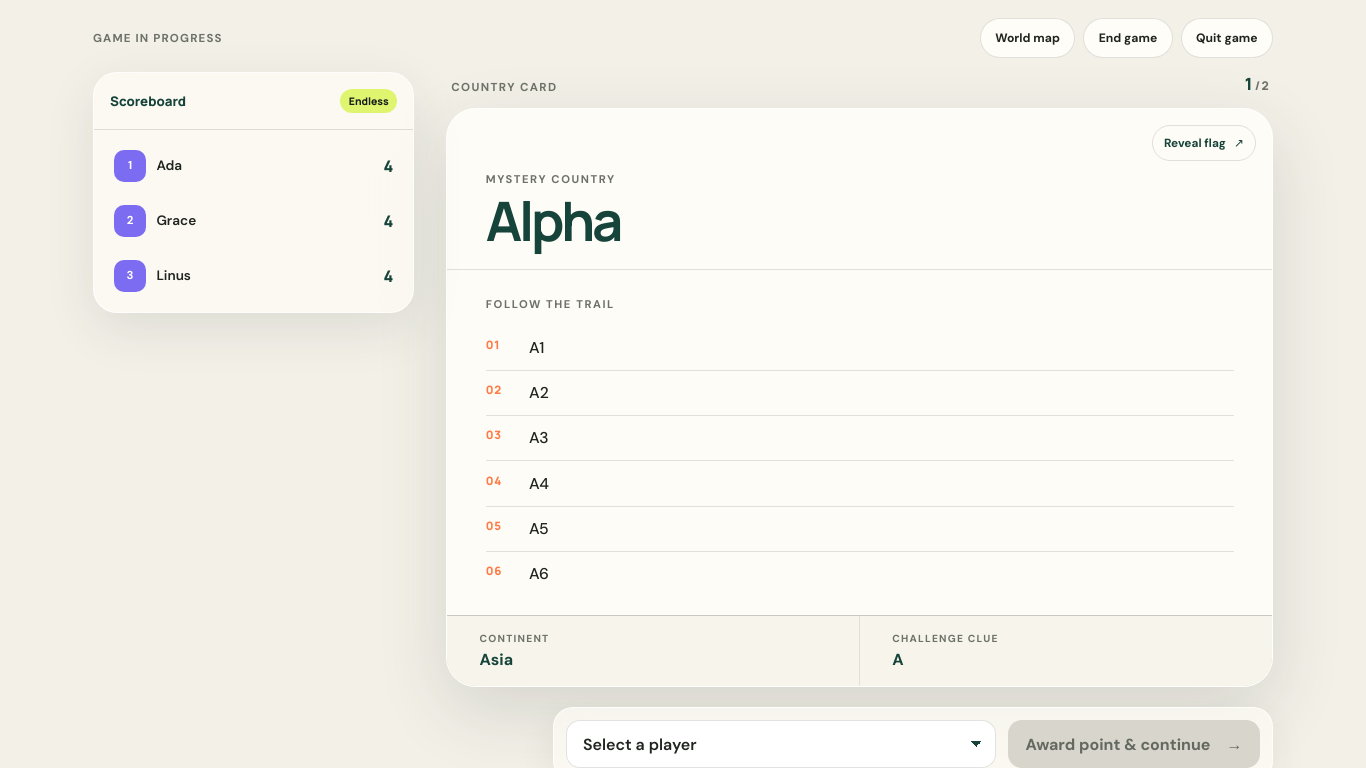
Scenario: lets players end an Endless game and declares tied leaders
Step 1. Click the button "End game" → (1128, 38), box [1083,18,1173,58]
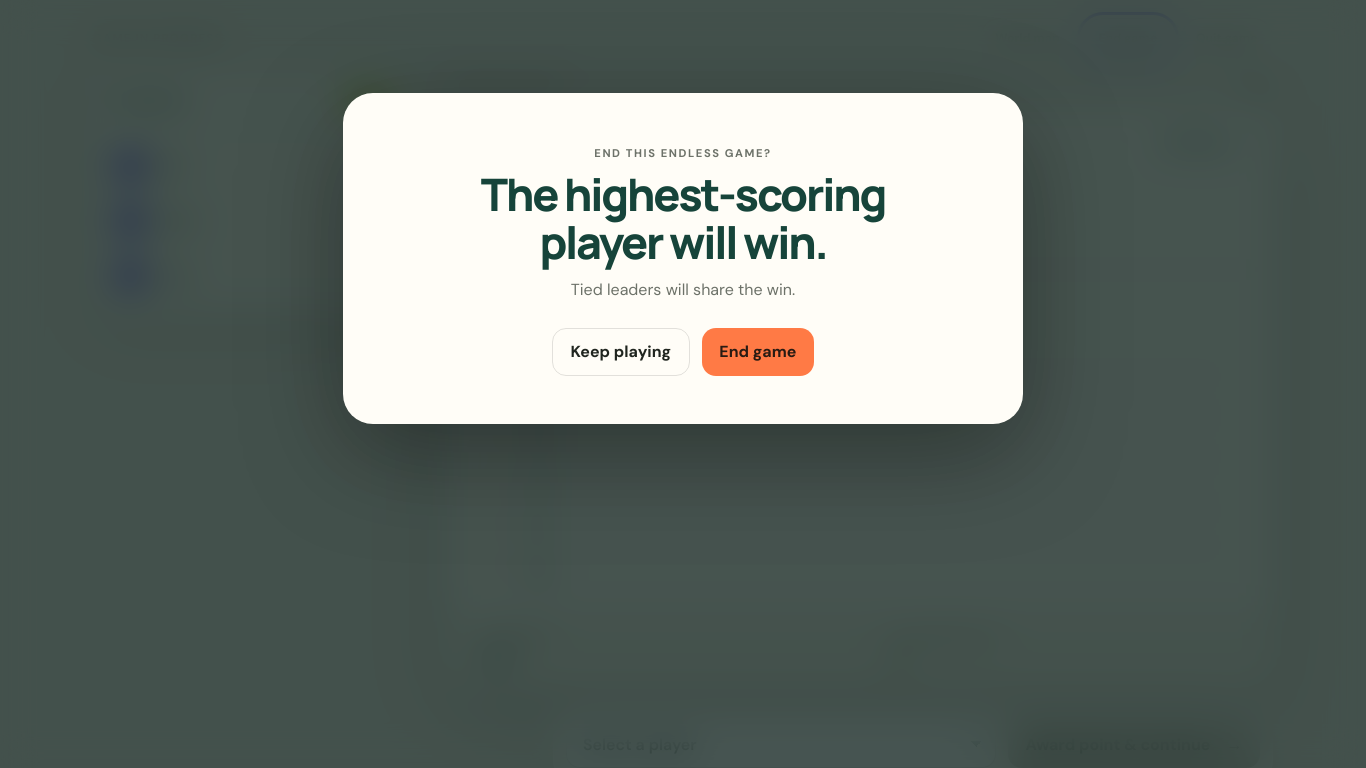
Result: the dialog is shown
Step 2. Click the button "Keep playing" → (621, 352), box [552,328,690,376]
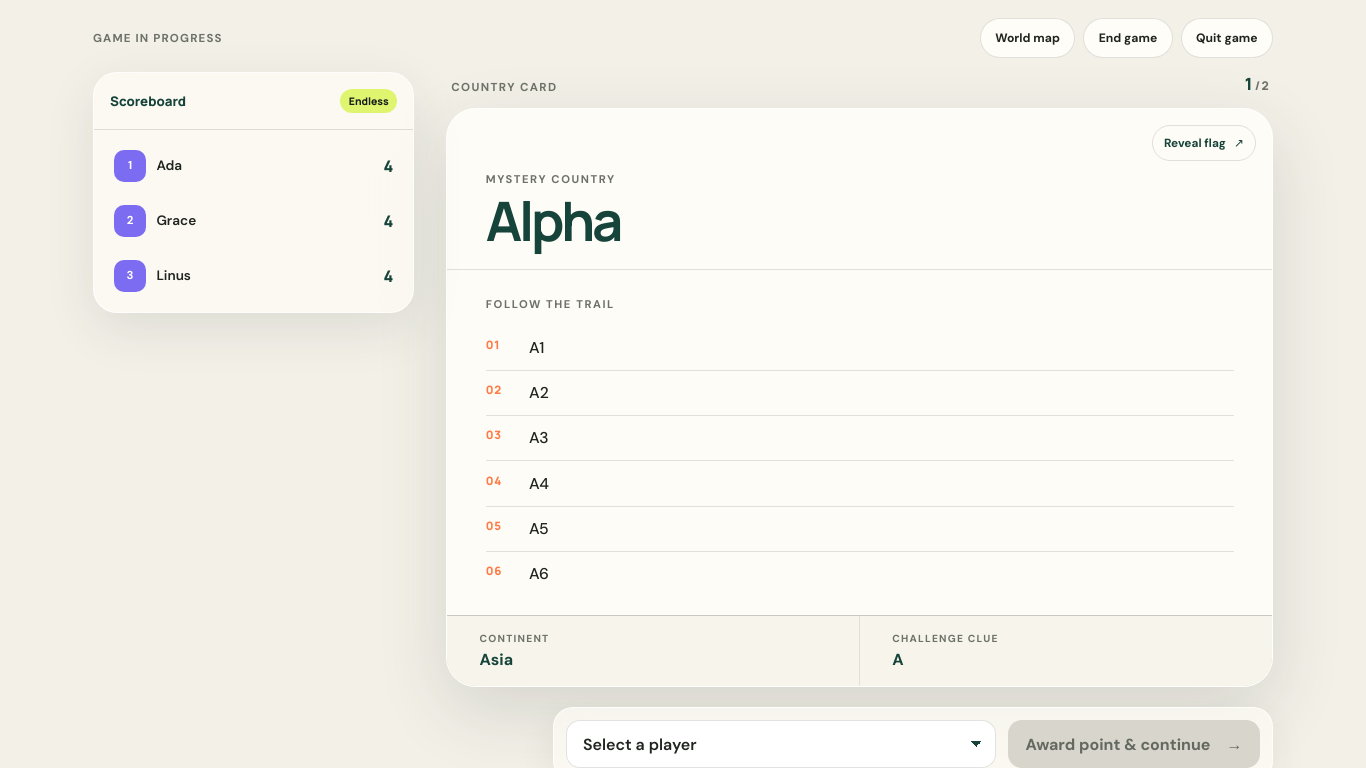
Result: the dialog is gone
Step 3. Click the button "End game" → (1128, 38), box [1083,18,1173,58]
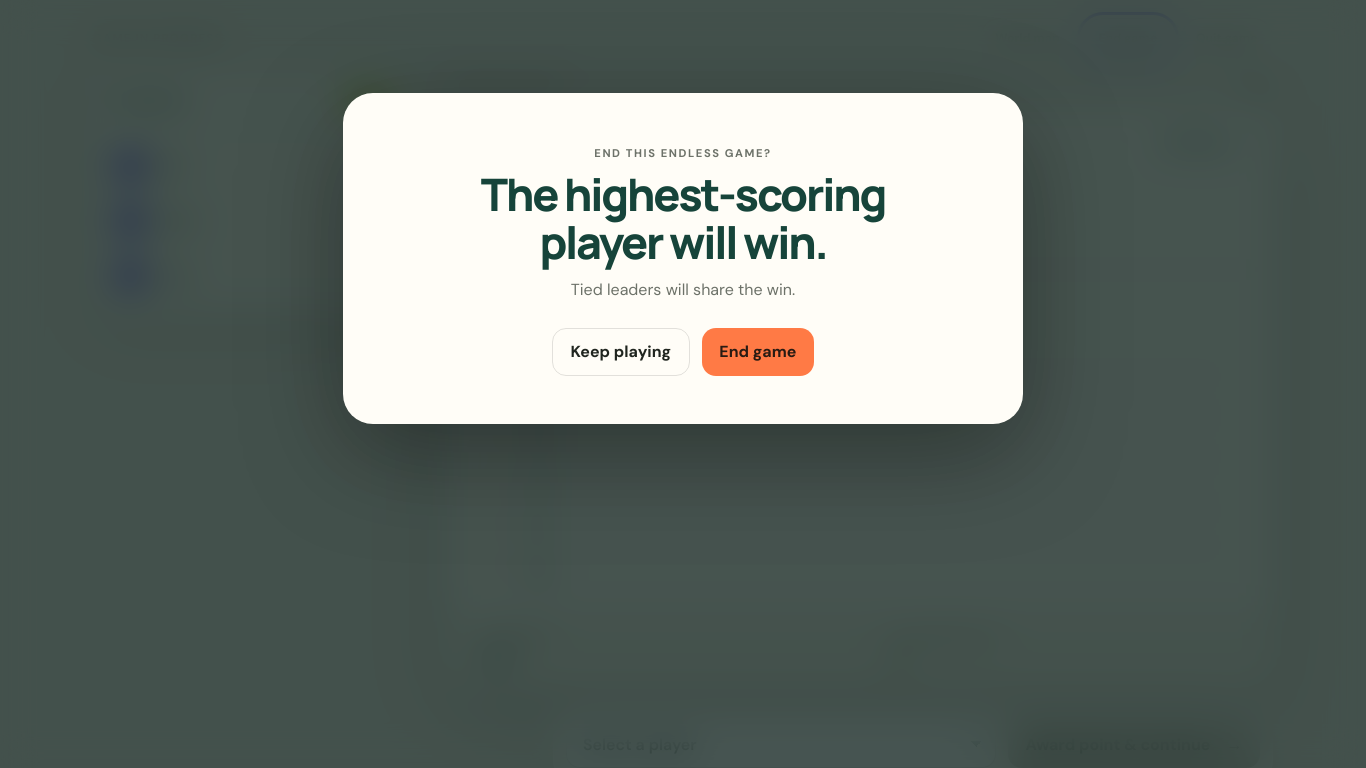
Step 4. Click the button "End game" → (758, 352), box [702,328,814,376]
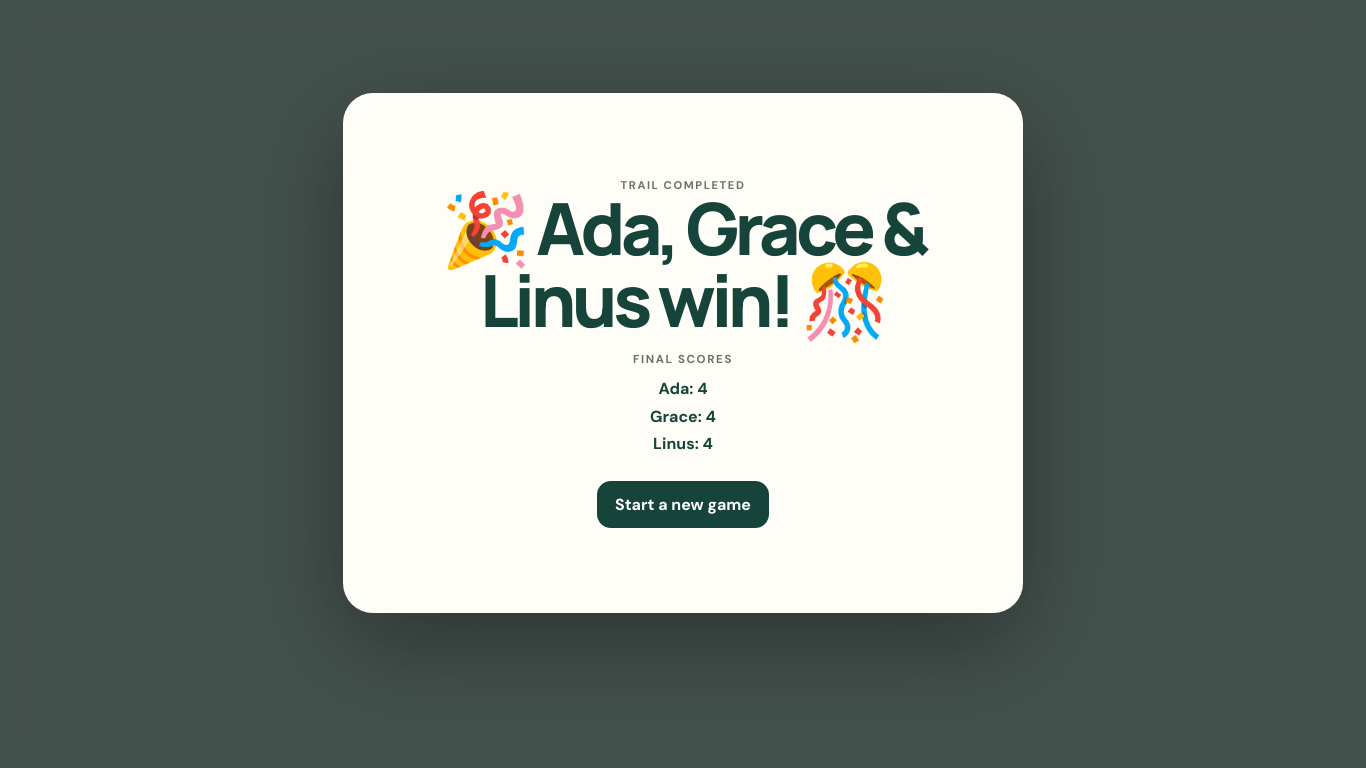
Result: the heading "🎉 Ada, Grace & Linus win! 🎊" is shown at [423,192,943,336]
